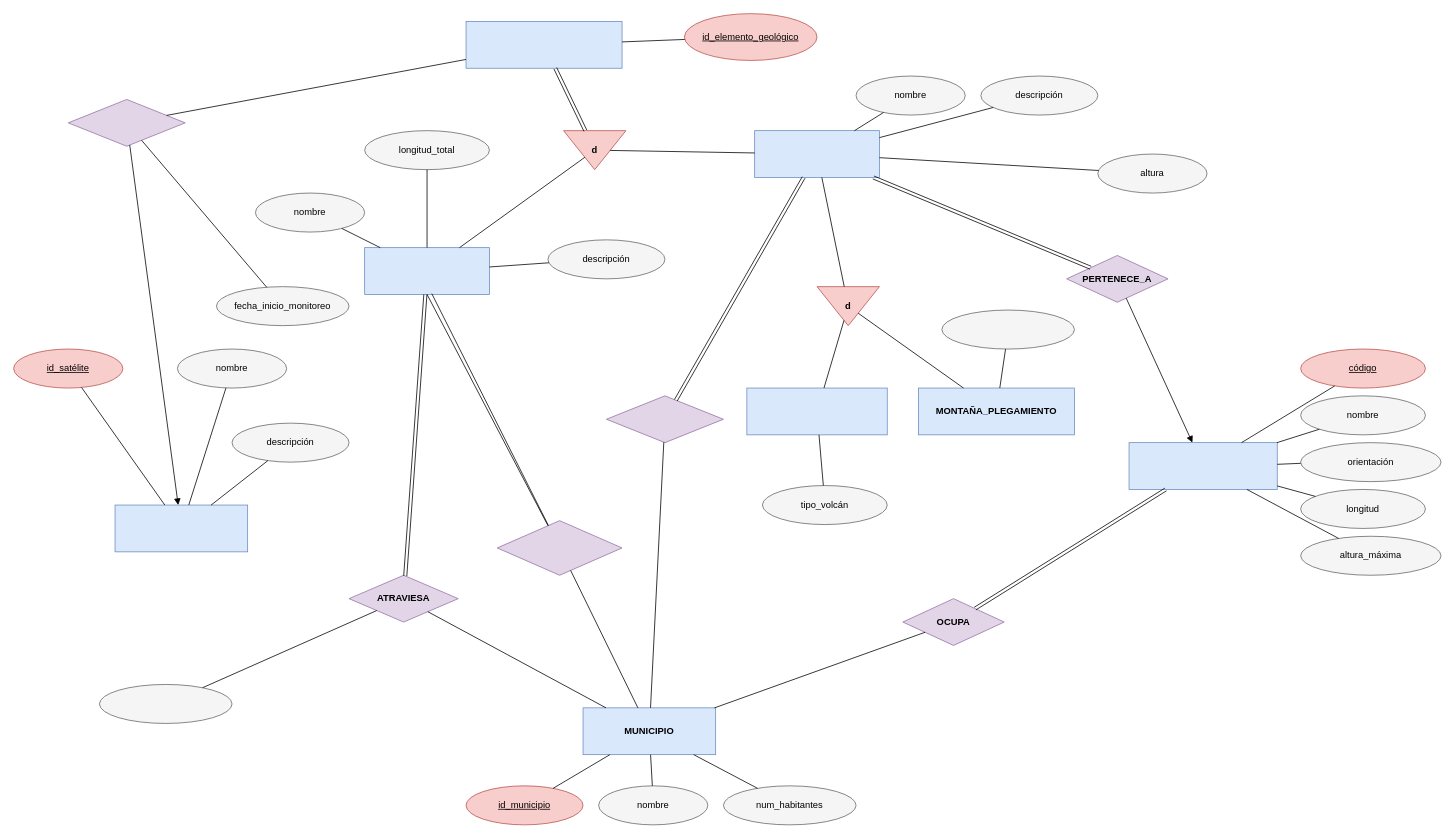
Some shapes in this 1455 by 838 pixel diagram are drawn without their labels. Each missing label, with the centre of its shape:
ELEMENTO_GEOLÓGICO: point 543,44
ES_AFLUENTE_DE: point 559,547
longitud_tramo: point 165,703
MONITOREA: point 126,122
MONTAÑA: point 816,153
MONTAÑA_VOLCÁNICA: point 816,411
periodo_geológico: point 1007,329
RÍO: point 426,270
SATÉLITE: point 181,528
SE_ENCUENTRA_EN: point 664,419
SISTEMA_MONTAÑOSO: point 1202,465
